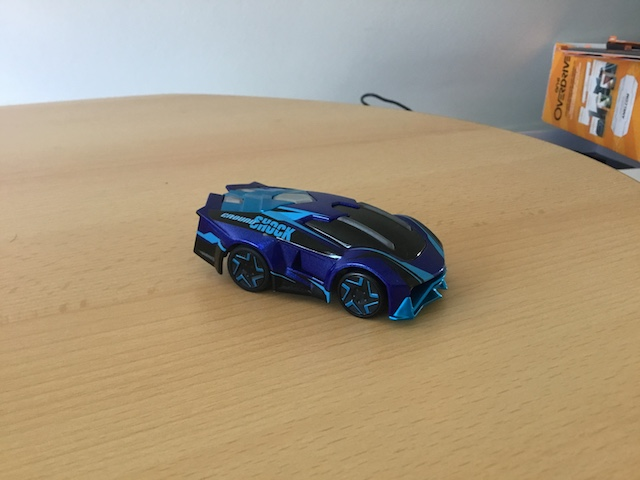car-blue: (189, 177, 451, 326)
